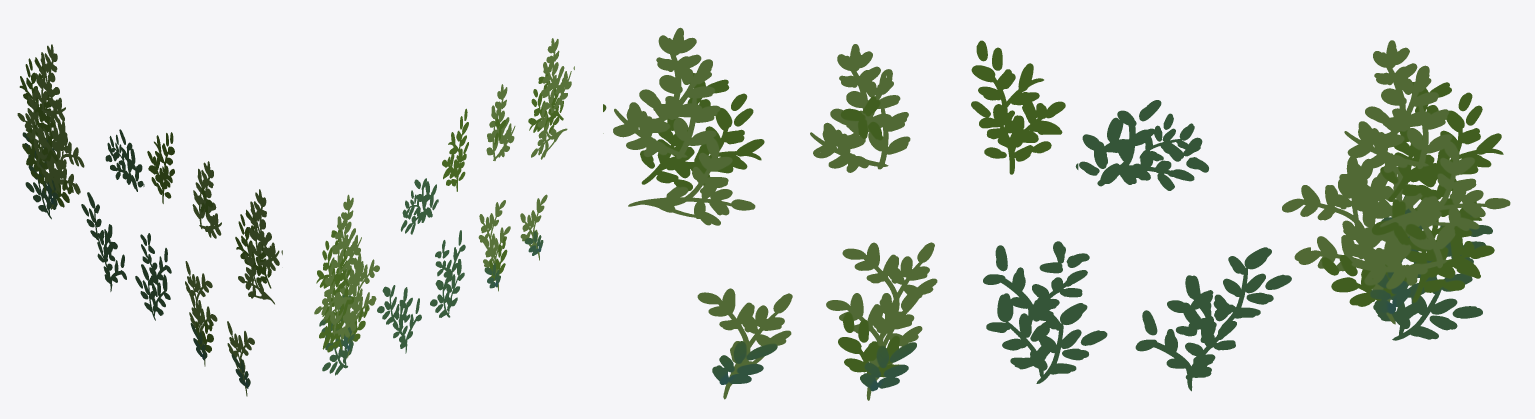
Rendered from Tree_Leaf.fbx.
3 views of the same model, side by side, from view 1: azimuth 30°, elevation 25°; view 2: azimuth 150°, elevation 25°; view 3: azimuth 270°, elevation 25° (orthographic). The views are drawn at different scales.
Parts seen in each view (by area): view 1: big_tree, T3_b, T2, T7, T8, T4, T6, T5, T1; view 2: big_tree, T3_b, T2, T7, T8, T4, T5, T6, T1; view 3: big_tree, T3_b, T2, T7, T8, T4, T5, T6, T1.
Boxes of the visible parts, x1,y1,x2,y2 form: big_tree: (17, 44, 84, 219); T3_b: (235, 189, 282, 304); T2: (185, 261, 217, 366); T7: (135, 233, 171, 320); T8: (75, 183, 126, 291); T4: (192, 161, 221, 238); T6: (105, 129, 143, 191); T5: (143, 132, 174, 203); T1: (227, 321, 254, 396); big_tree: (314, 194, 379, 375); T3_b: (528, 38, 574, 159); T2: (478, 200, 510, 291); T7: (430, 230, 465, 317); T8: (371, 285, 421, 353); T4: (486, 84, 515, 160); T5: (438, 108, 468, 202); T6: (400, 178, 437, 234); T1: (520, 194, 547, 260); big_tree: (1282, 40, 1510, 340); T3_b: (603, 27, 764, 225); T2: (826, 242, 937, 400); T7: (983, 241, 1107, 383); T8: (1135, 247, 1310, 391); T4: (810, 44, 910, 172); T5: (971, 40, 1078, 174); T6: (1079, 100, 1208, 190); T1: (697, 288, 792, 399).
Bounding box in the file's own units: 7.54e-07 × 9.66 × 20.56.
